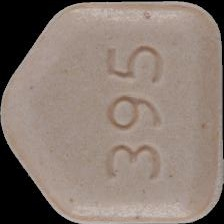61786-419: (0, 0, 224, 224)
